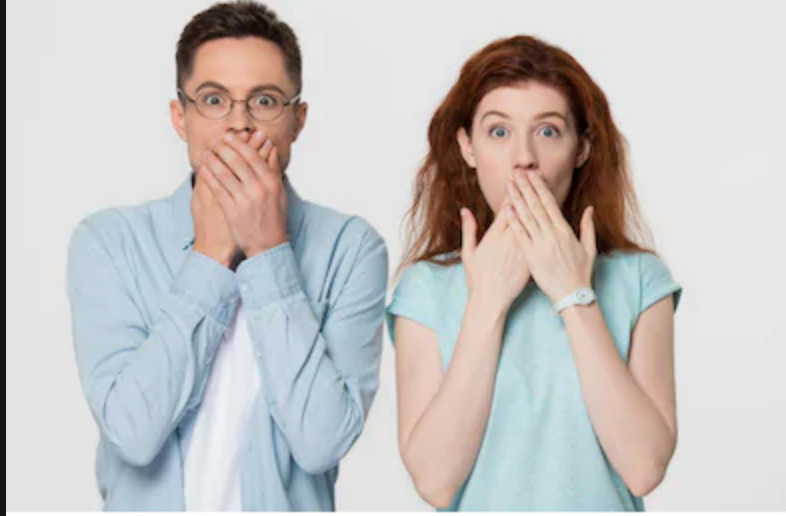Bad: (66, 1, 677, 513)
